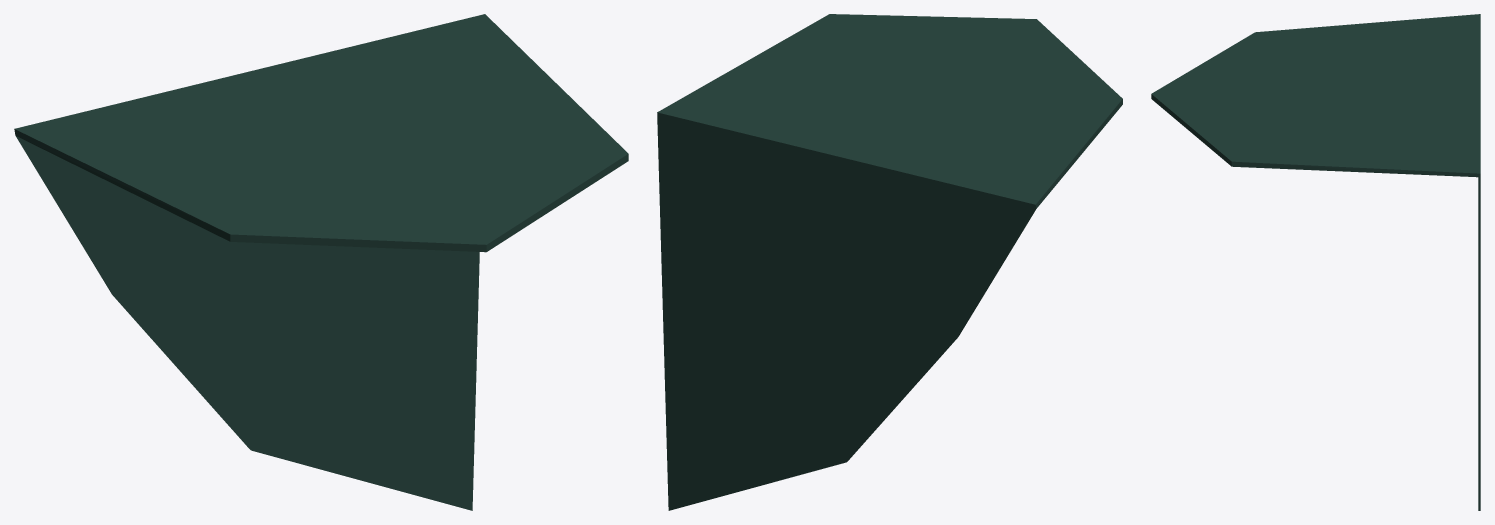
The model's file is Fabric.fbx.
The picture shows the model from 3 angles, left to right: view 1: azimuth 30°, elevation 25°; view 2: azimuth 150°, elevation 25°; view 3: azimuth 270°, elevation 25°; orthographic projection. The views are drawn at different scales.
Parts seen in each view (by area): view 1: Fabric; view 2: Fabric; view 3: Fabric.
Boxes of the visible parts, x1,y1,x2,y2 form: Fabric: [14, 14, 628, 510]; Fabric: [657, 14, 1122, 510]; Fabric: [1151, 14, 1480, 510].
Bounding box in the file's own units: 112 × 112 × 97.82.
